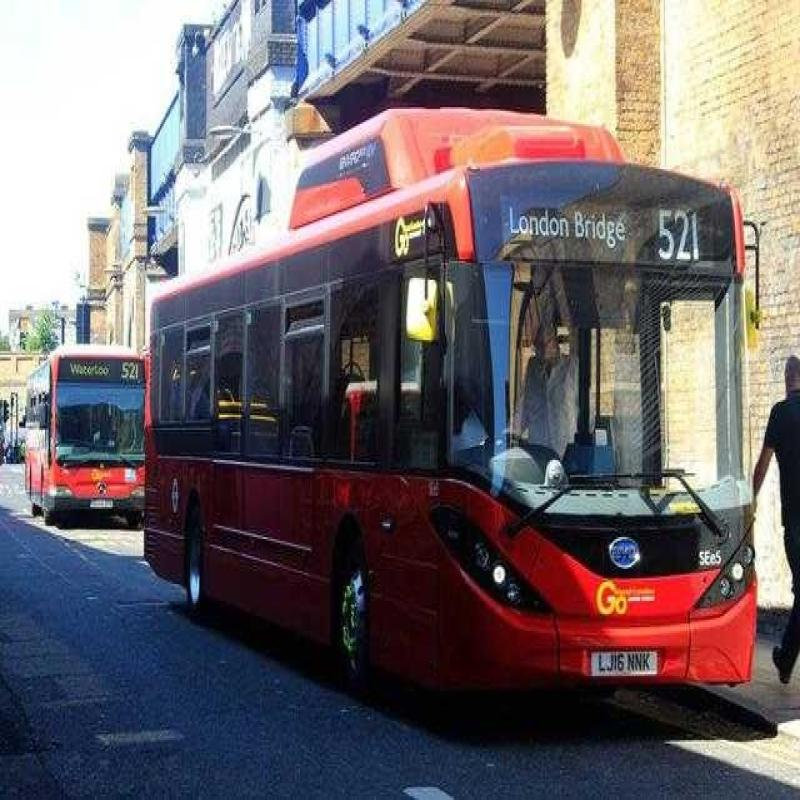bus: (125, 94, 767, 736), (16, 345, 150, 520)
